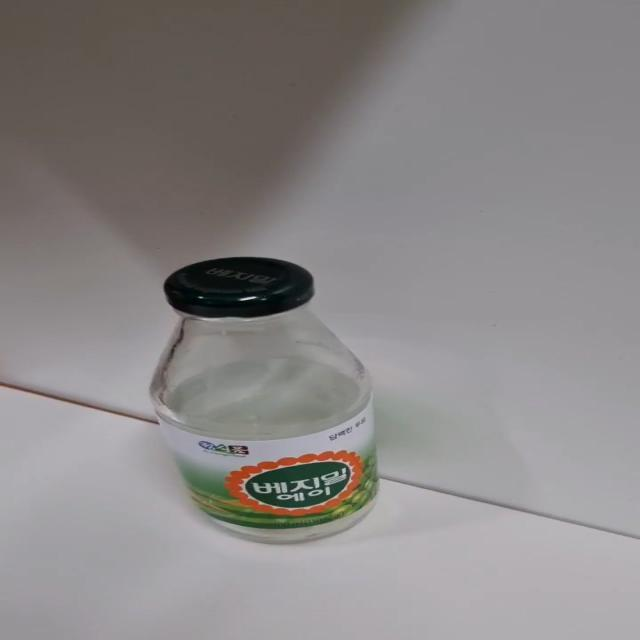Glass: (148, 257, 380, 545)
